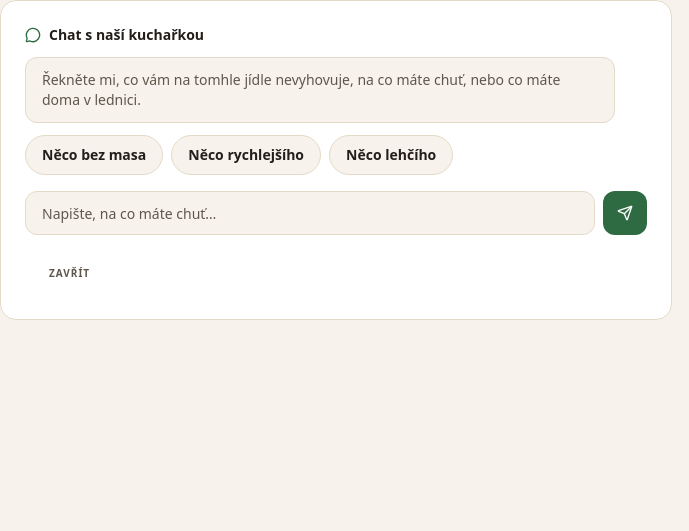
Test: RecipeRefineChat › first turn shows the candidate card and the follow-up question
This screenshot has width=689, height=531.
Type "něco s kuřecím" into the field with placeholder "Napište, na co máte chuť…". click: (310, 213)
box: [25,191,595,235]
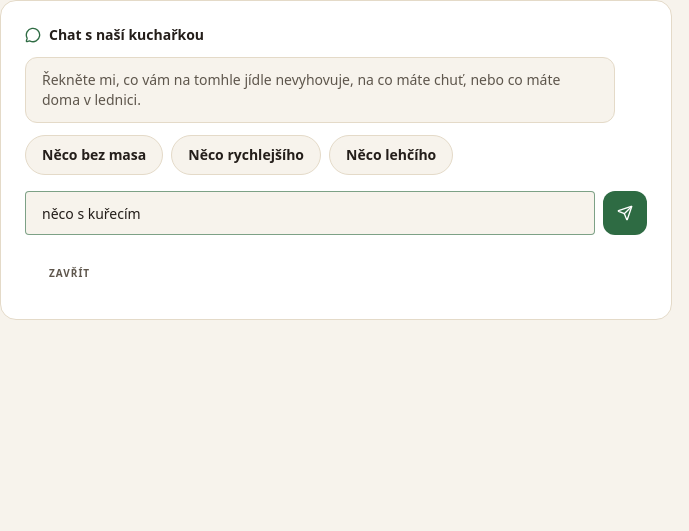
Click the button named "Odeslat". click: (625, 213)
box: [603,191,647,235]
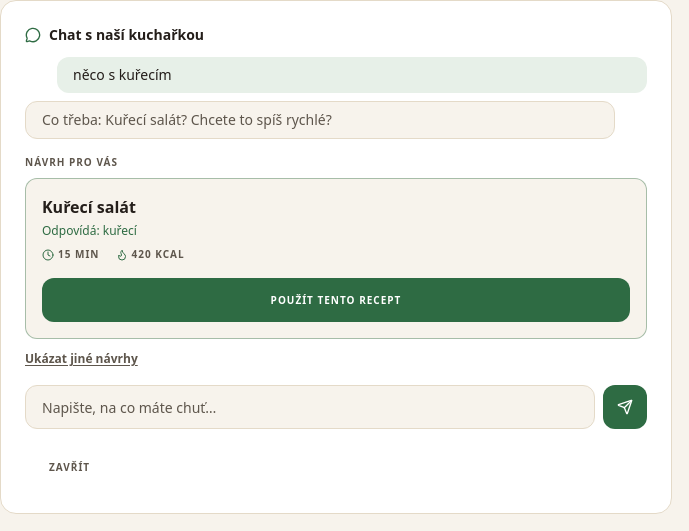
Now the list item "Co třeba: Kuřecí salát? Chcete to spíš rychlé?" is shown, box [25,101,615,139]
Now the text "Odpovídá: kuřecí" is shown, box [42,222,137,239]
Now the button "Použít tento recept" is shown, box [42,278,630,322]
